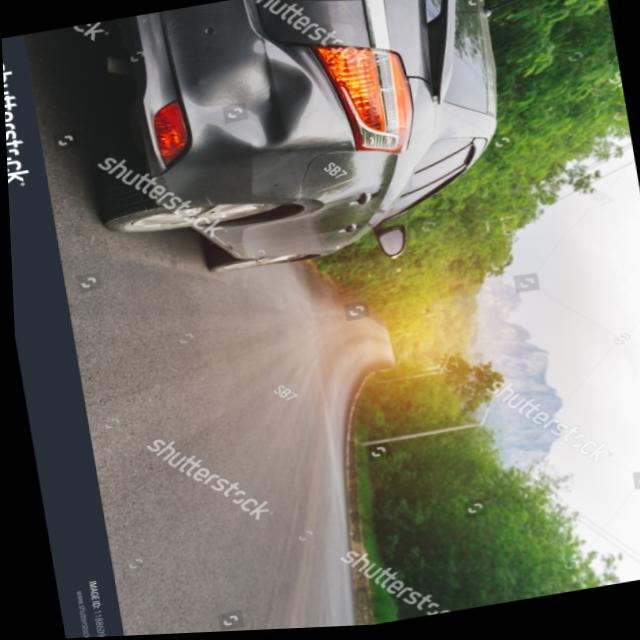Dent: (185, 47, 324, 162)
